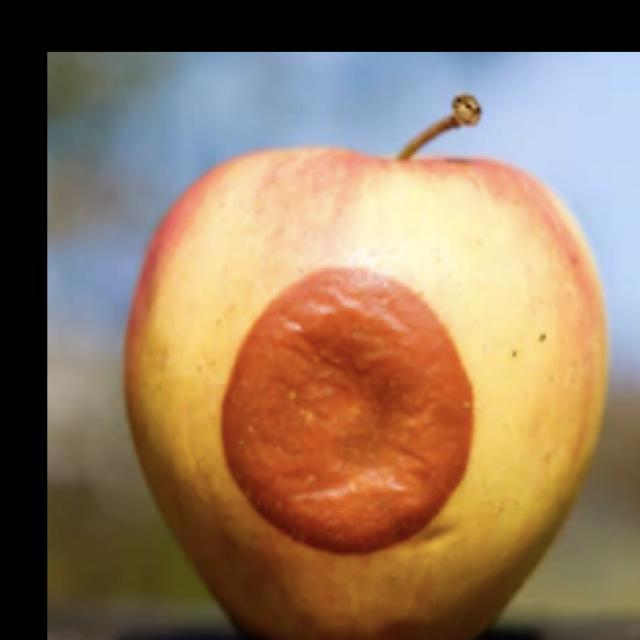Rotten: (116, 140, 612, 640)
